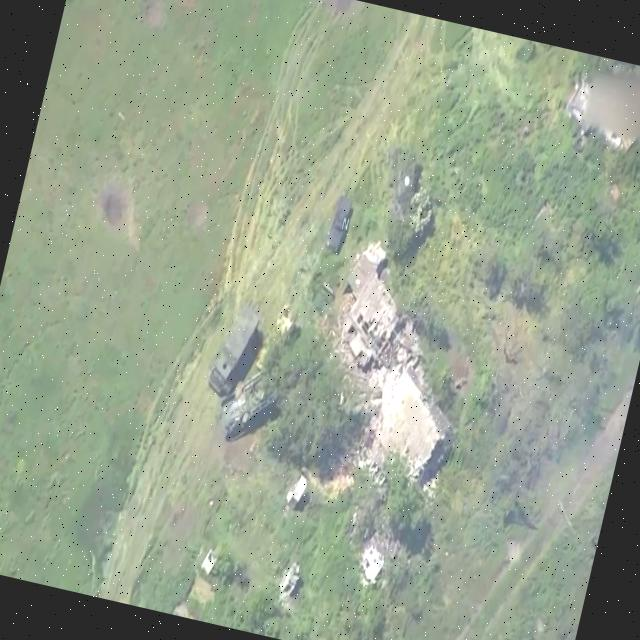Vehicle: (215, 363, 287, 457), (205, 301, 264, 399), (323, 193, 357, 257)
